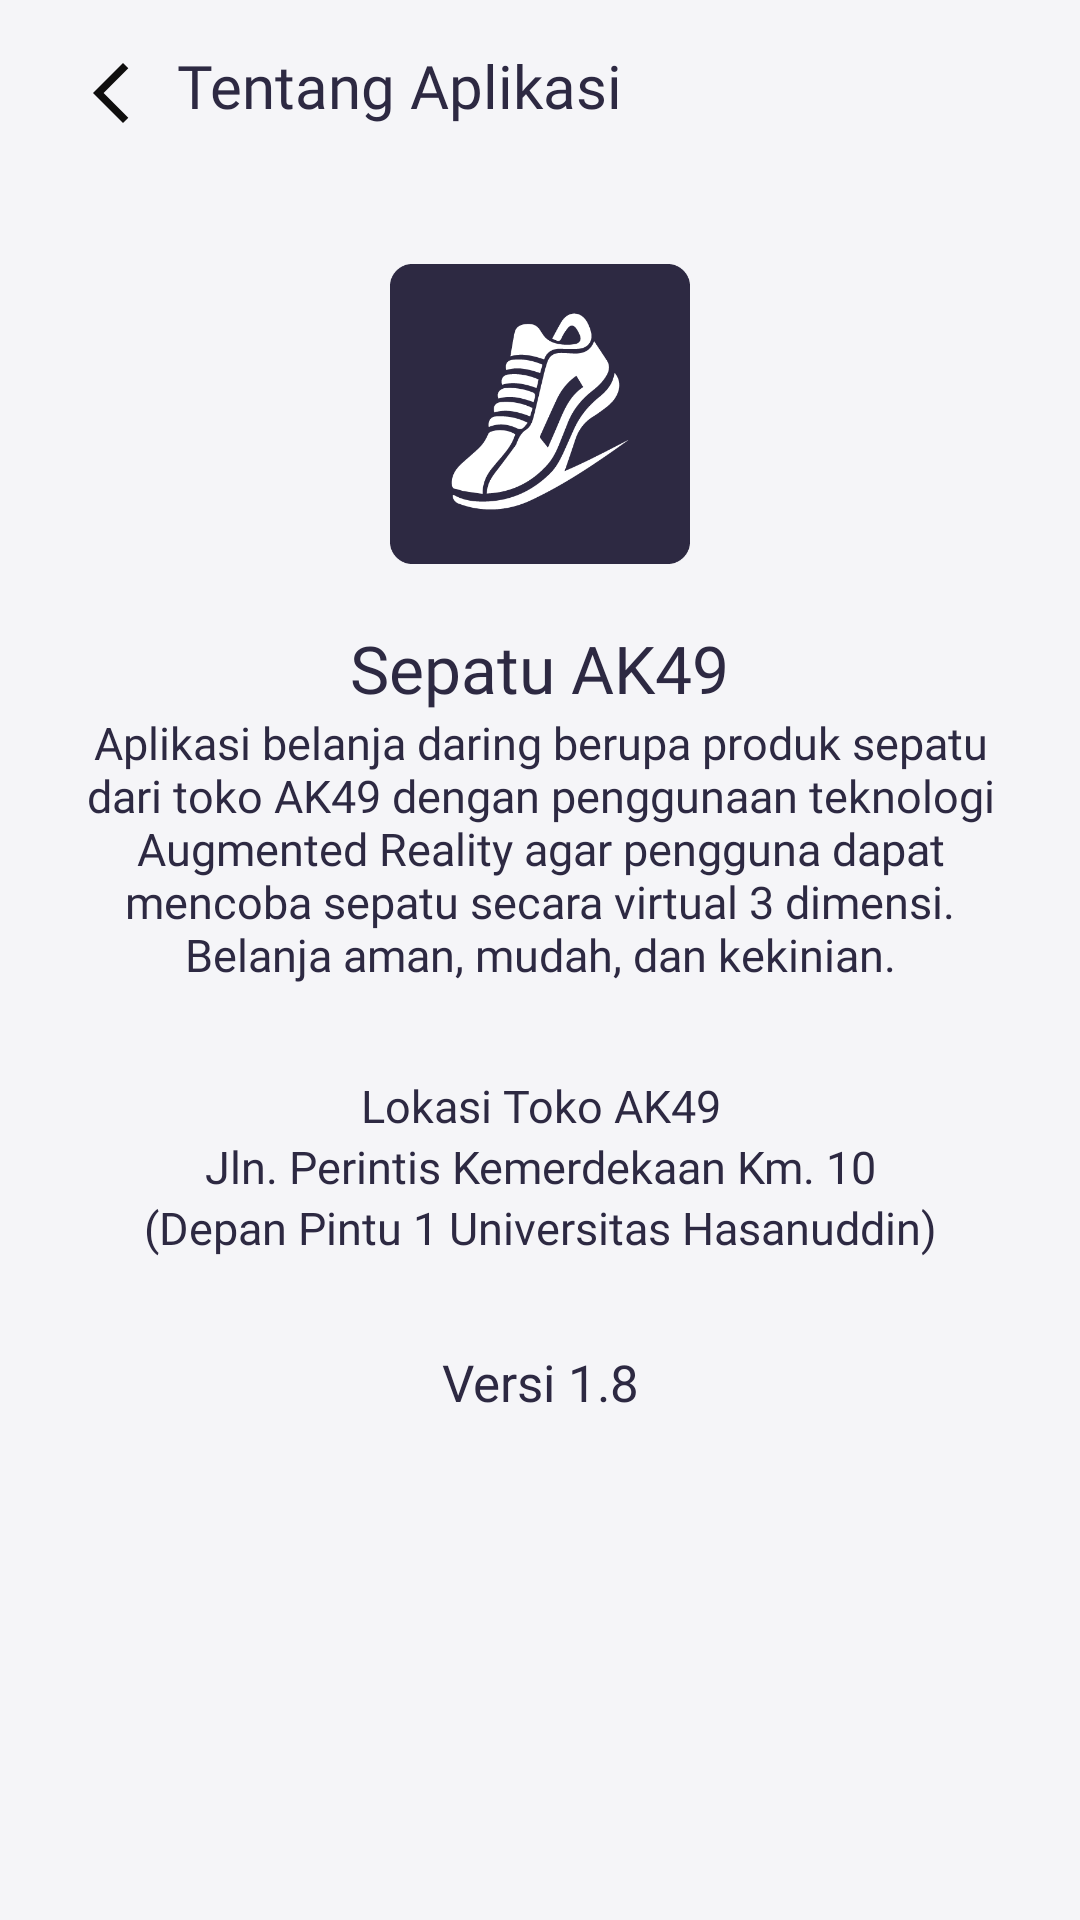

Named icons in this screenshot (1080×1920) and their bounding boxes, {"left": x1, "top": y1, "right": x2, "bottom": y2}:
back: {"left": 93, "top": 63, "right": 128, "bottom": 123}
